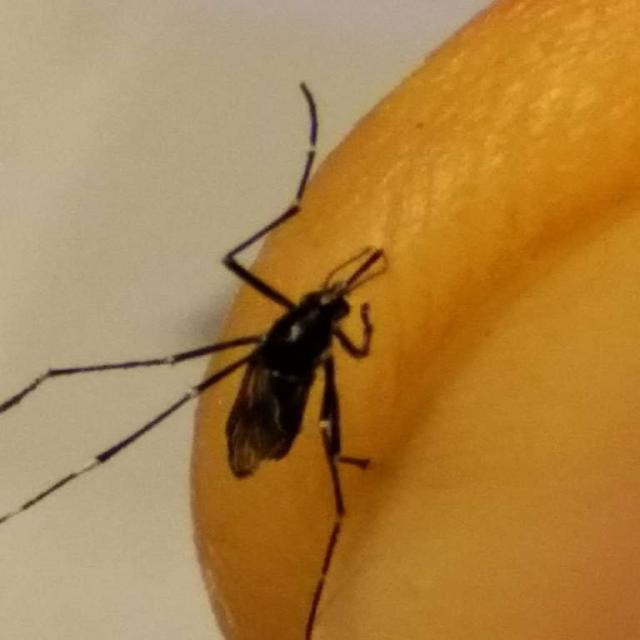albopictus: (3, 124, 439, 611)
